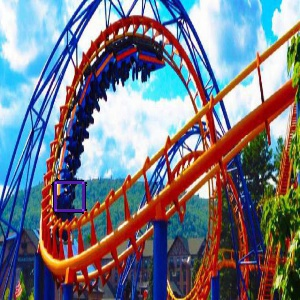square: (52, 179, 86, 214)
